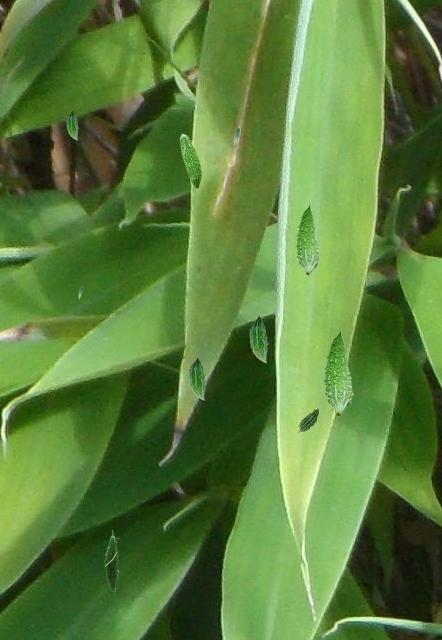ampalaya: (322, 329, 354, 416), (294, 203, 320, 275), (179, 133, 202, 191), (103, 529, 121, 595), (248, 314, 268, 363), (188, 356, 206, 400), (296, 407, 319, 434), (66, 108, 79, 140), (233, 126, 240, 145), (78, 285, 83, 299)
